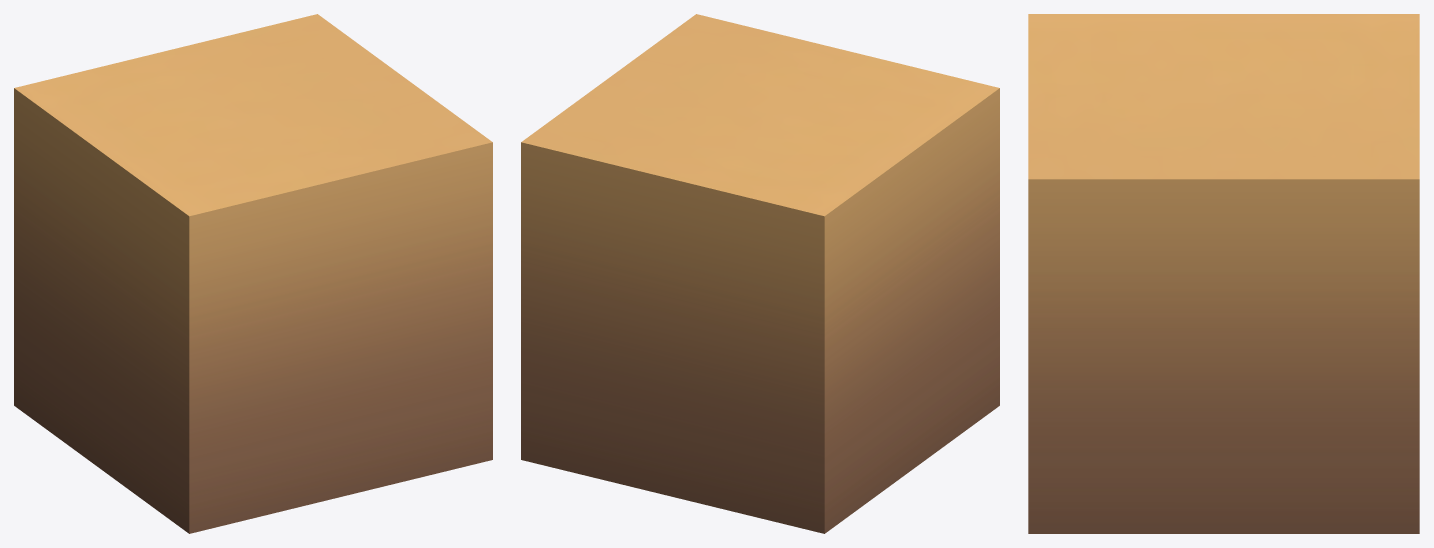
File: Tile.fbx
The picture shows the model from 3 angles, left to right: view 1: azimuth 30°, elevation 25°; view 2: azimuth 150°, elevation 25°; view 3: azimuth 270°, elevation 25°; orthographic projection. The views are drawn at different scales.
Visible parts, largest first — view 1: tile; view 2: tile; view 3: tile.
Boxes of the visible parts, x1,y1,x2,y2 form: tile: (14, 14, 492, 533); tile: (521, 14, 999, 533); tile: (1028, 14, 1419, 533).
Bounding box in the file's own units: 10 × 10 × 10.
